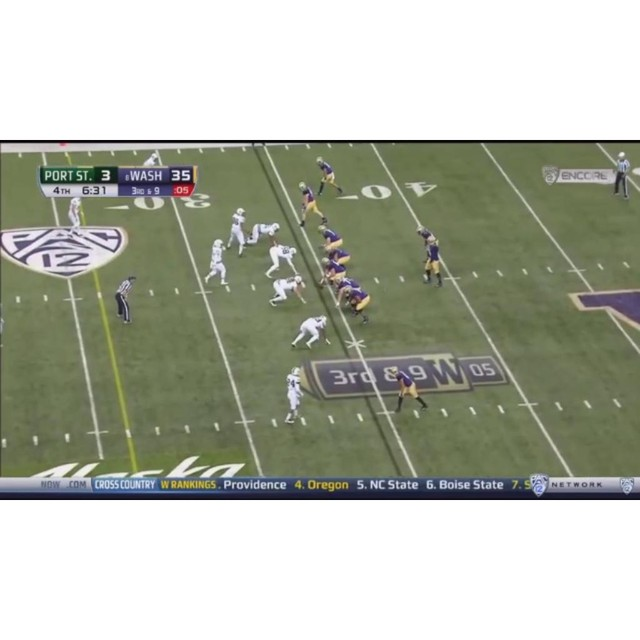american-football-player: (387, 366, 428, 412), (290, 315, 330, 350), (298, 182, 327, 227), (269, 275, 307, 307), (341, 285, 371, 325), (204, 238, 229, 286), (284, 366, 304, 423), (422, 235, 443, 288), (226, 207, 247, 258), (266, 244, 298, 277), (316, 158, 344, 195), (333, 274, 362, 309), (318, 256, 346, 289), (245, 222, 280, 248), (318, 223, 344, 254), (68, 198, 84, 237)
referee: (114, 275, 137, 324), (611, 151, 632, 200)
